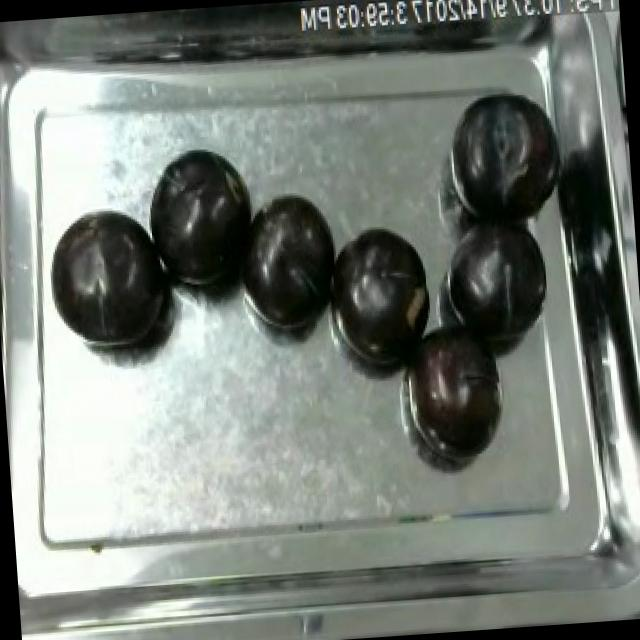Fruit: (46, 202, 182, 366), (225, 182, 351, 344), (138, 138, 264, 300), (317, 214, 438, 376), (390, 312, 512, 461), (442, 82, 556, 234), (437, 208, 556, 350)
